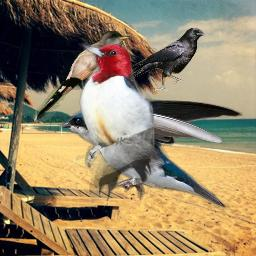Crow: (128, 27, 208, 92)
Cuckoo: (33, 31, 131, 121)
Swallow: (60, 97, 243, 210)
Woodpecker: (76, 43, 157, 206)
